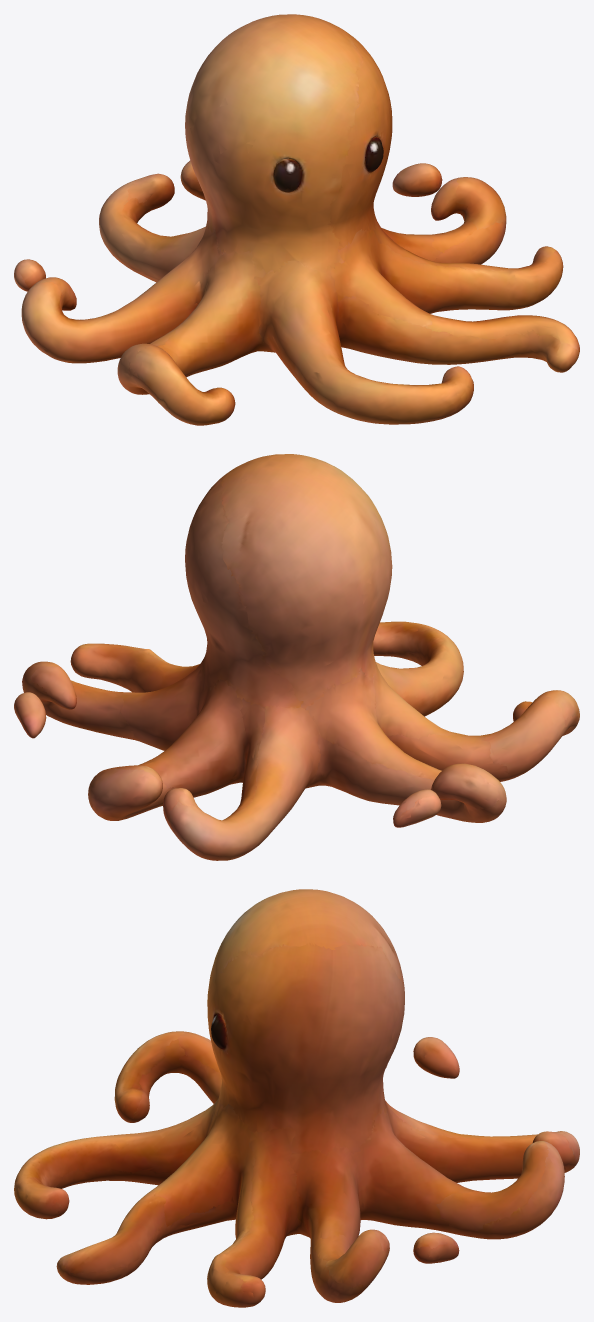
File: octopus_pbr.glb
3 views of the same model, one above another, from view 1: azimuth 30°, elevation 25°; view 2: azimuth 150°, elevation 25°; view 3: azimuth 270°, elevation 25° (orthographic).
Parts seen in each view (by area): view 1: model.007; view 2: model.007; view 3: model.007.
Part boxes in pixels (<box>): model.007: <box>14,14,579,425</box>; model.007: <box>14,454,579,860</box>; model.007: <box>14,889,579,1307</box>.
Size of the model in its own units: 1.64 by 0.986 by 1.65.
Materials: 1 (1 with a texture image).
